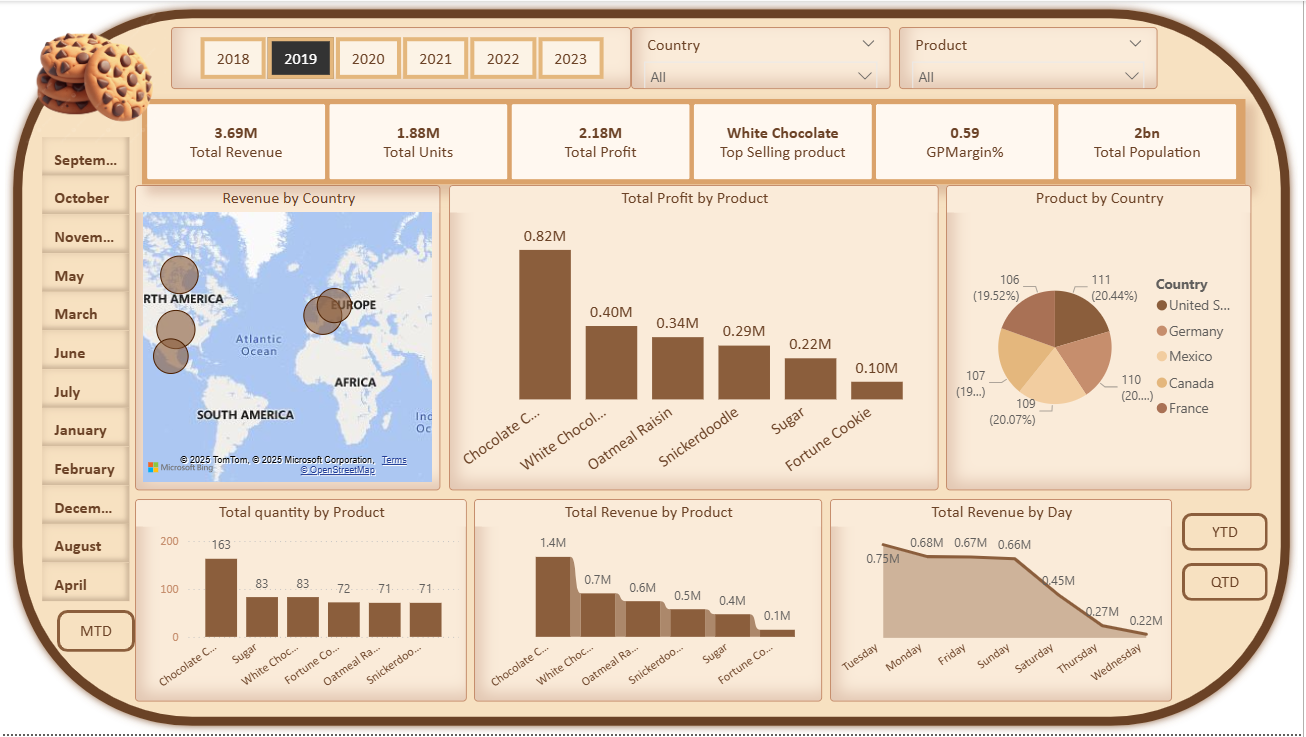

The dashboard page shown, as its layout file describes it:
{"tool":"powerbi","page":{"name":"AMOS Cookie Sales Details","canvas":[1280,720],"ordinal":1},"visuals":[{"type":"shape","box":[4.9,0,1270.2,720.1],"z":0},{"type":"advancedSlicerVisual","fields":{"Values":["Test.Month Name"]},"box":[36.3,128.7,96.3,469.6],"z":1000},{"type":"slicer","fields":{"Values":["CookieSales.Product"]},"box":[913.6,35.4,254.4,60.9],"z":2000},{"type":"slicer","fields":{"Values":["CookieSales.Country"]},"box":[649.3,35.4,255.4,60.9],"z":3000},{"type":"map","title":"Revenue by Country","fields":{"Category":["CookieSales.Country"],"Size":["Sum(CookieSales.Revenue)"]},"box":[133,181,300,300],"z":4000},{"type":"cardVisual","fields":{"Data":["CookieSales.Total Revenue","CookieSales.Total Units","CookieSales.TotalProfit","CookieSales.Best Cookie by Revenue","CookieSales.GPMargin%","CookieSales.Total Population"]},"box":[139.5,96.3,1083.5,84.5],"z":5000},{"type":"pieChart","title":"Product by Country","fields":{"Y":["CountNonNull(CookieSales.Product)"],"Category":["CookieSales.Country"]},"box":[929,181,300,300],"z":6000},{"type":"columnChart","fields":{"Y":["CountNonNull(CookieSales.Units Sold)"],"Category":["CookieSales.Product"]},"box":[132.6,489.2,326.1,199.4],"z":7000},{"type":"columnChart","fields":{"Category":["CookieSales.Product"],"Y":["CookieSales.Total Revenue"]},"box":[465.6,489.2,341.9,199.4],"z":8000},{"type":"columnChart","fields":{"Category":["CookieSales.Product"],"Y":["CookieSales.TotalProfit"]},"box":[441.1,180.8,481.4,299.6],"z":9000},{"type":"actionButton","box":[1161.1,503,84.5,37.3],"z":10000},{"type":"actionButton","box":[1161.1,552.1,84.5,37.3],"z":11000},{"type":"actionButton","box":[56,598.3,76.6,41.3],"z":12000},{"type":"areaChart","title":"Total Revenue by Day","fields":{"Category":["Test.Day Name"],"Y":["CookieSales.Total Revenue"]},"box":[815.3,489.2,336,199.4],"z":13000},{"type":"image","box":[4.9,5.9,151.3,119.8],"z":14000},{"type":"advancedSlicerVisual","fields":{"Values":["Test.Date.Variation.Date Hierarchy.Year"]},"box":[187.6,35.4,448.9,60.9],"z":15000}]}

Visuals, with their boxes in screenshot pixels (x1, y1, x2, y2), scaled from the page's 1280x720 canvas onto the 1306x737 screenshot:
shape: [left=5, top=0, right=1301, bottom=736]
advancedSlicerVisual - Test.Month Name: [left=37, top=132, right=135, bottom=612]
slicer - CookieSales.Product: [left=932, top=36, right=1192, bottom=99]
slicer - CookieSales.Country: [left=662, top=36, right=923, bottom=99]
"Revenue by Country" map: [left=136, top=185, right=442, bottom=492]
cardVisual - CookieSales.Total Revenue x CookieSales.Total Units: [left=142, top=99, right=1248, bottom=185]
"Product by Country" pieChart: [left=948, top=185, right=1254, bottom=492]
columnChart - CountNonNull(CookieSales.Units Sold) x CookieSales.Product: [left=135, top=501, right=468, bottom=705]
columnChart - CookieSales.Product x CookieSales.Total Revenue: [left=475, top=501, right=824, bottom=705]
columnChart - CookieSales.Product x CookieSales.TotalProfit: [left=450, top=185, right=941, bottom=492]
actionButton: [left=1185, top=515, right=1271, bottom=553]
actionButton: [left=1185, top=565, right=1271, bottom=603]
actionButton: [left=57, top=612, right=135, bottom=655]
"Total Revenue by Day" areaChart: [left=832, top=501, right=1175, bottom=705]
image: [left=5, top=6, right=159, bottom=129]
advancedSlicerVisual - Test.Date.Variation.Date Hierarchy.Year: [left=191, top=36, right=649, bottom=99]
